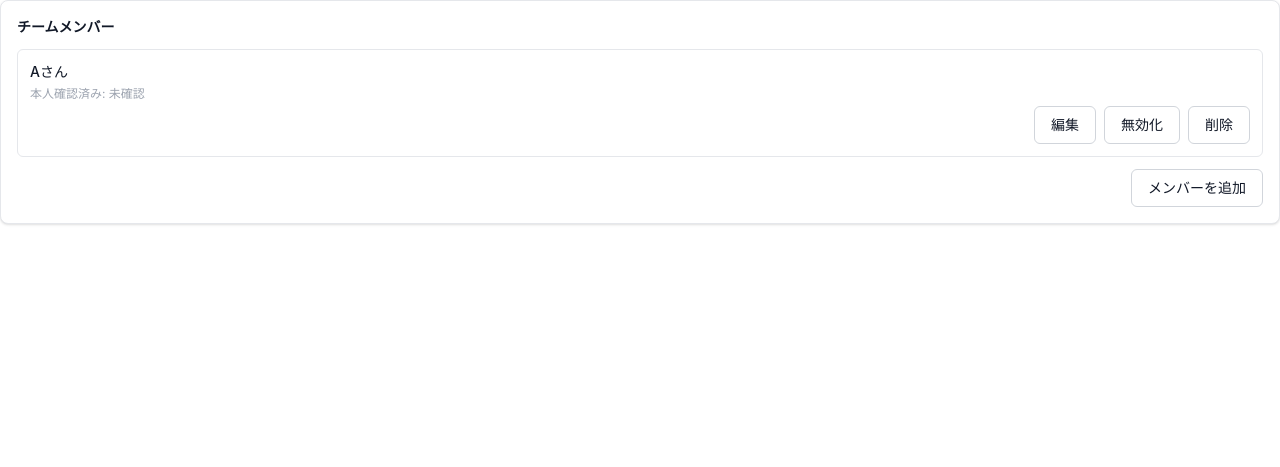
Test: WorkMemberList › opens the edit form for a member
Click the button "編集": click(1065, 125) [1034,106,1096,144]
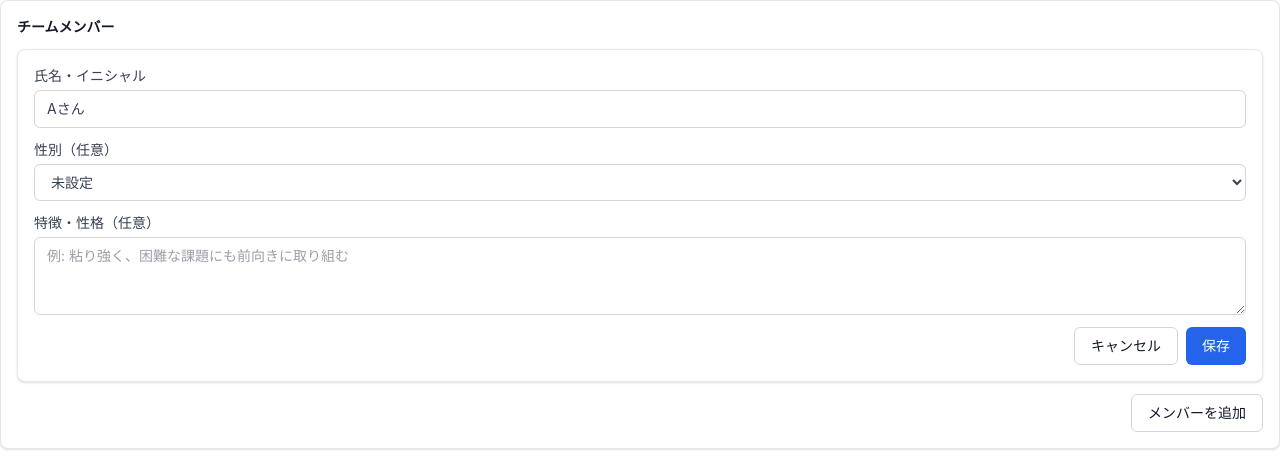
Expected: the field labelled "氏名・イニシャル" holds "Aさん", [34,90,1246,128]
